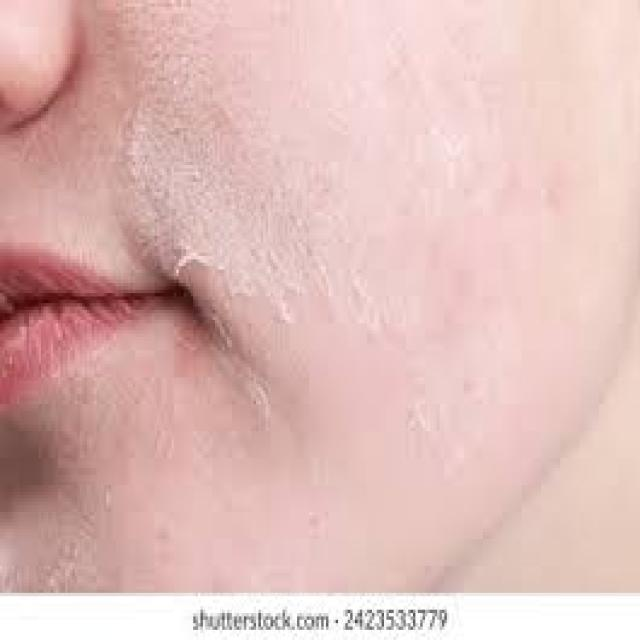flakiness: (155, 200, 338, 413)
